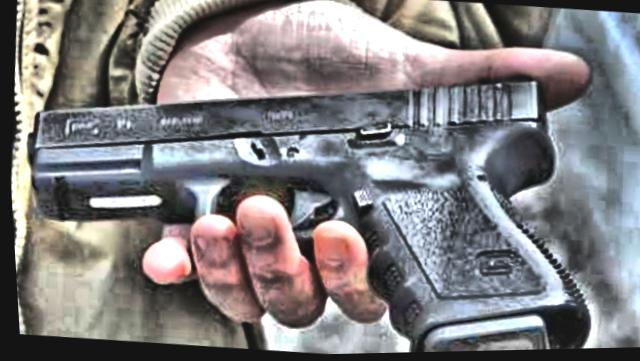pistol: (10, 31, 601, 361)
